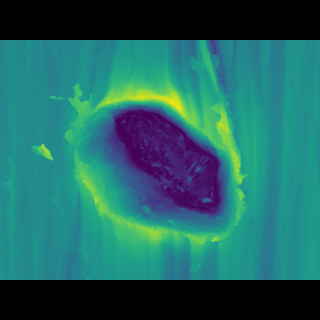Loch: (68, 99, 258, 235)
